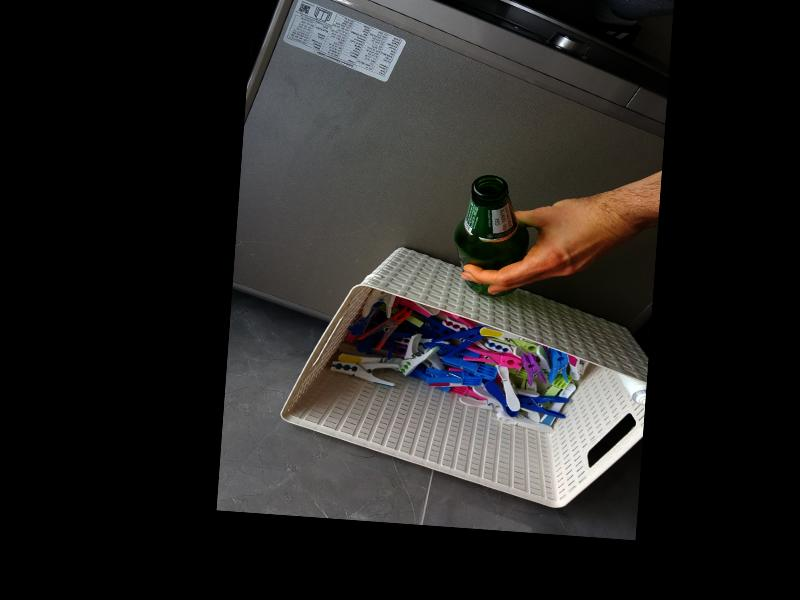Beer: (450, 172, 532, 298)
